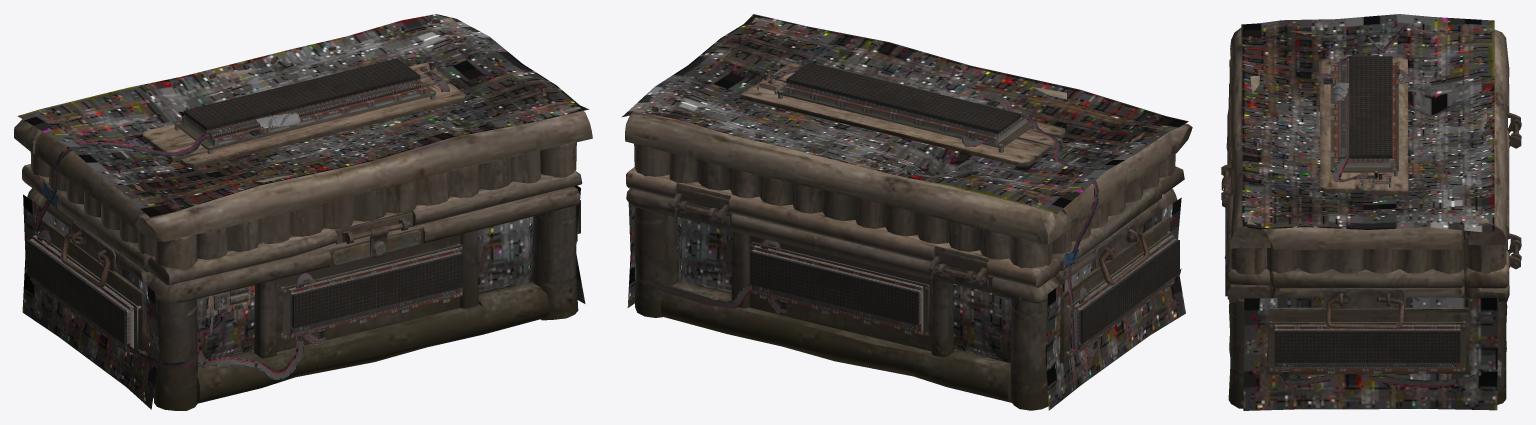
File: component.box.wood.large.glb
3 views of the same model, side by side, from view 1: azimuth 30°, elevation 25°; view 2: azimuth 150°, elevation 25°; view 3: azimuth 270°, elevation 25° (orthographic). The views are drawn at different scales.
Visible parts, largest first — view 1: component_box_wood, matrix_display_wood, matrix_display_wood_top; view 2: component_box_wood, matrix_display_wood, matrix_display_wood_top; view 3: component_box_wood, matrix_display_wood, matrix_display_wood_top.
Boxes of the visible parts, <box> form: component_box_wood: <box>14,14,592,410</box>; matrix_display_wood: <box>26,200,580,380</box>; matrix_display_wood_top: <box>34,58,449,233</box>; component_box_wood: <box>622,14,1192,410</box>; matrix_display_wood: <box>634,231,1181,356</box>; matrix_display_wood_top: <box>757,62,1098,351</box>; component_box_wood: <box>1221,14,1521,410</box>; matrix_display_wood: <box>1224,190,1501,387</box>; matrix_display_wood_top: <box>1316,25,1411,187</box>.
Bounding box in the file's own units: 1.92 × 0.8883 × 1.15.
Materials: 2 (2 with a texture image).
